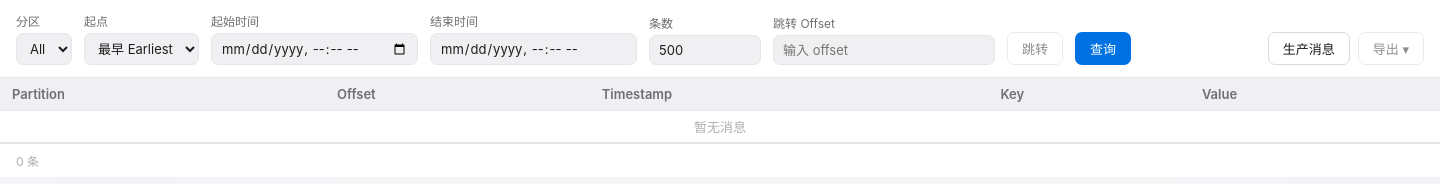
Test case: MessageBrowser › queries by time range when the start time is filled
In the field with test id "filter-start-time": (314, 49) [211,33,418,65], type "2023-11-15T08:30:00"
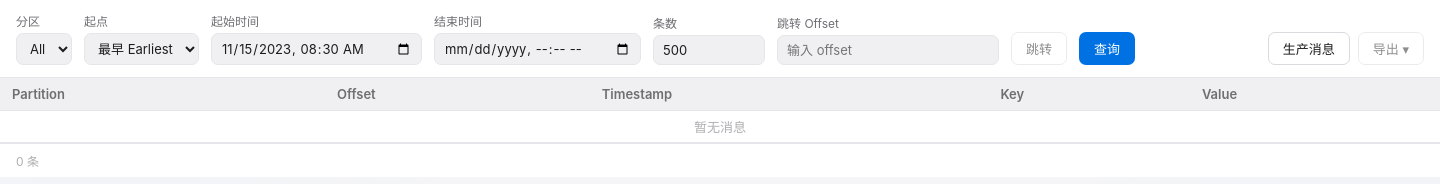
In the field with test id "filter-end-time": (538, 49) [434,33,641,65], type "2023-11-15T09:30:00"
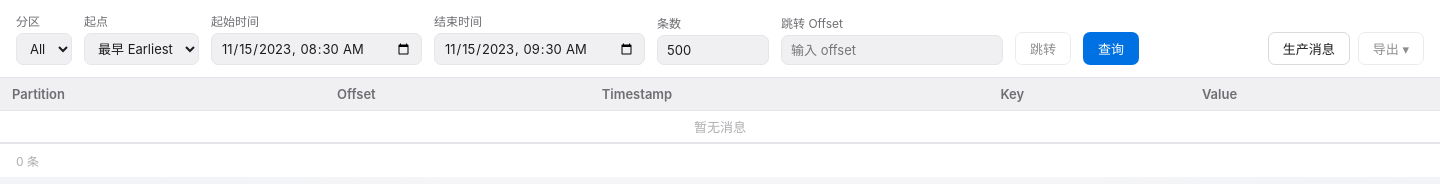
Click the button with test id "btn-query": (1111, 48) [1083,32,1139,65]
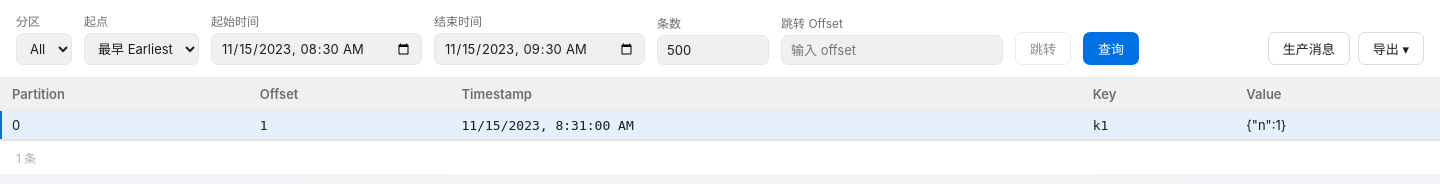
Now the text with test id "message-count" reads "1 条", box [16,151,36,166]
Now the row with test id "target-row" is shown, box [0,110,1439,140]
